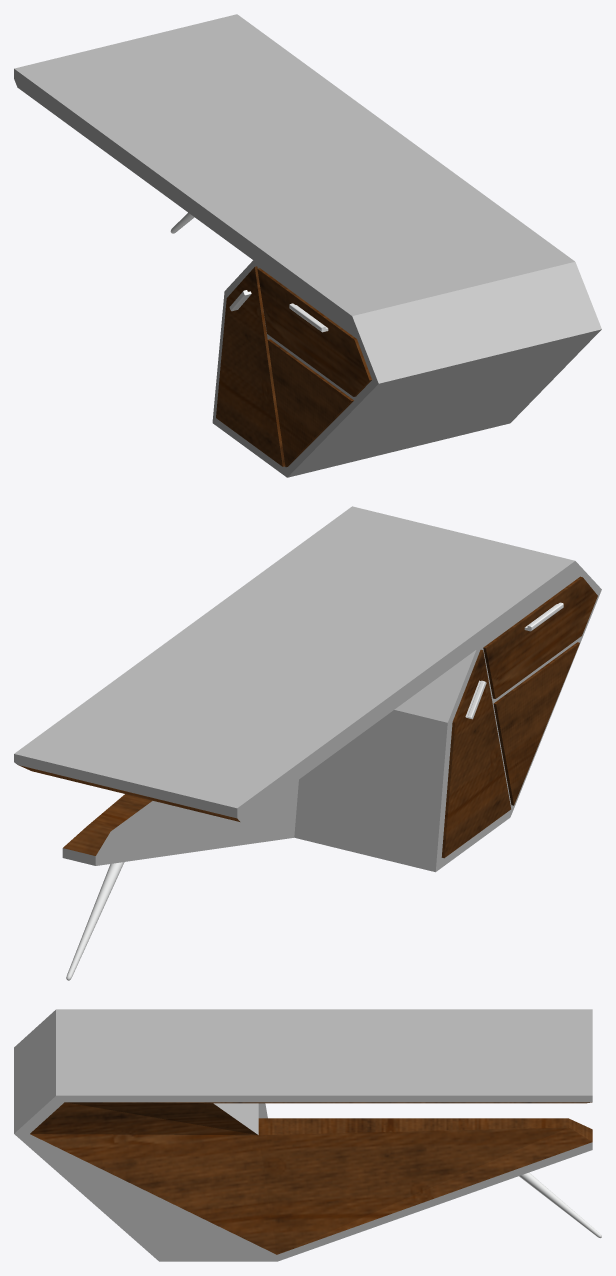
The picture shows the model from 3 angles, top to bottom: view 1: azimuth 30°, elevation 25°; view 2: azimuth 150°, elevation 25°; view 3: azimuth 270°, elevation 25°; orthographic projection. The views are drawn at different scales.
Parts seen in each view (by area): view 1: scrivania_0, casetti_1; view 2: scrivania_0, casetti_1, appogio terra_2, maniglie_3; view 3: scrivania_0, appogio terra_2.
Boxes of the visible parts, bbox=[...] form: scrivania_0: bbox=[14, 14, 601, 477]; casetti_1: bbox=[216, 266, 371, 467]; scrivania_0: bbox=[14, 506, 601, 872]; casetti_1: bbox=[441, 576, 597, 858]; appogio terra_2: bbox=[66, 862, 124, 980]; maniglie_3: bbox=[465, 602, 563, 719]; scrivania_0: bbox=[14, 1009, 592, 1261]; appogio terra_2: bbox=[519, 1172, 601, 1238].
Size of the model in its own units: 1.11 by 0.9568 by 3.07.
3 materials, 3 textured.
